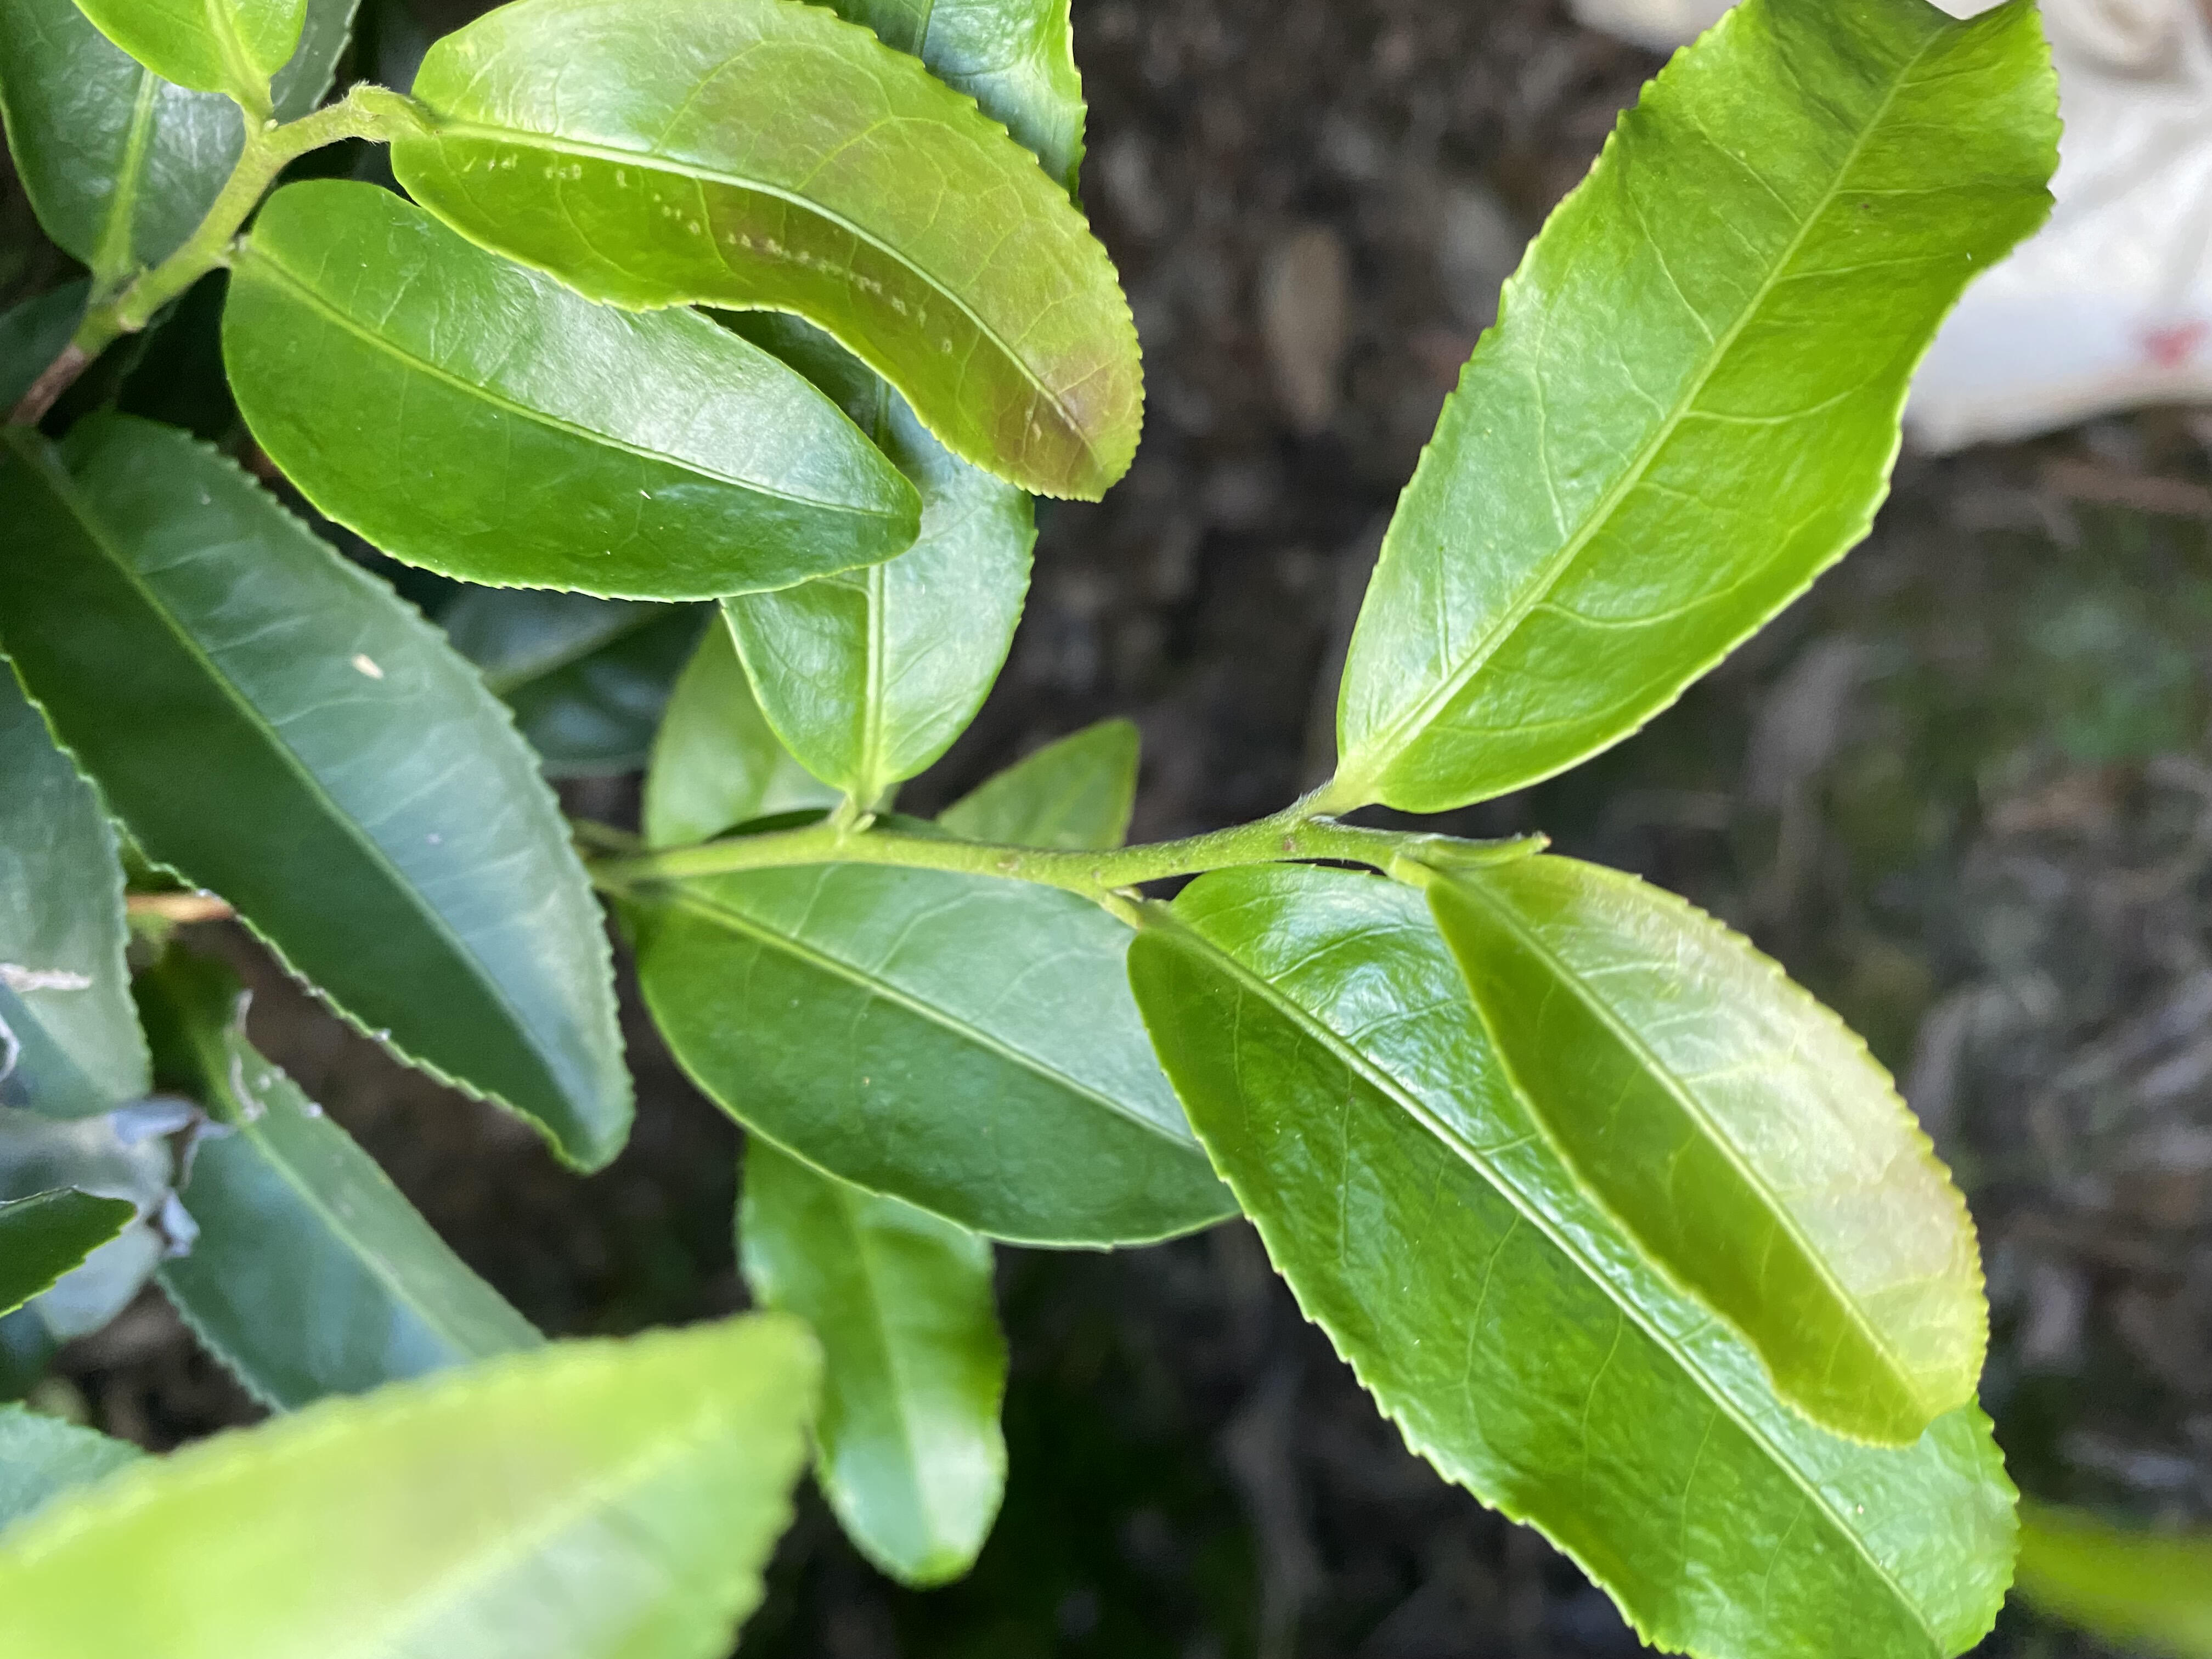healthy: (1125, 856, 2020, 1659), (1332, 2, 2067, 819), (1432, 852, 1994, 1448), (218, 178, 921, 605)
tanju_low: (12, 410, 636, 1178), (390, 2, 1150, 502)
